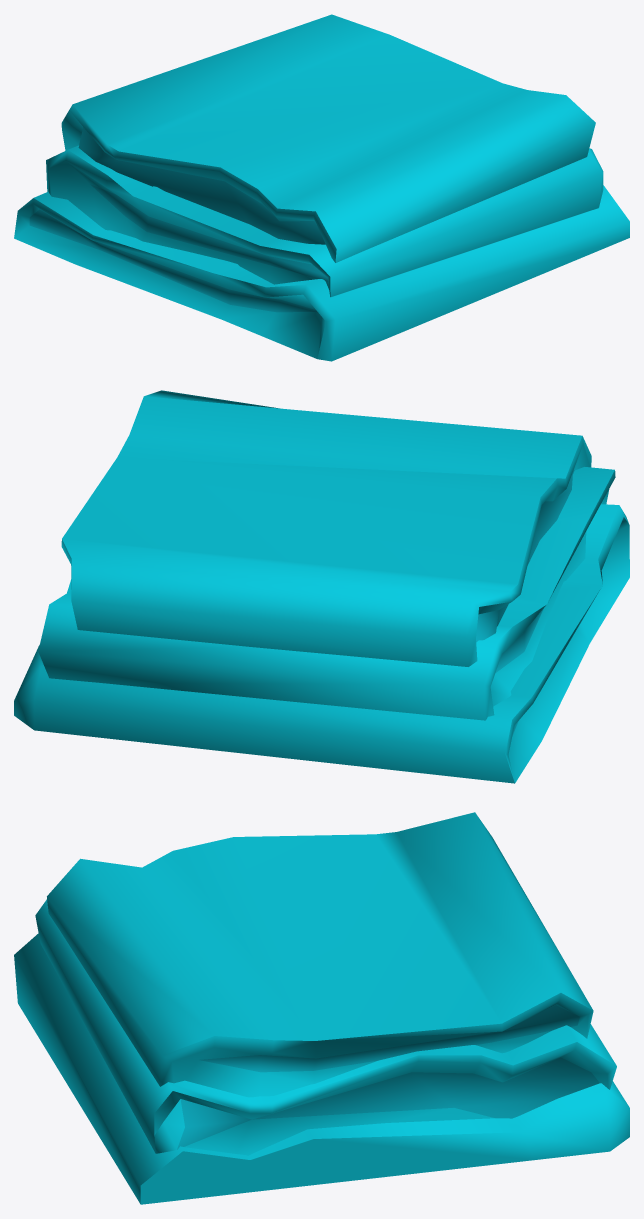
The model's file is clothes_009.glb.
3 views of the same model, one above another, from view 1: azimuth 30°, elevation 25°; view 2: azimuth 150°, elevation 25°; view 3: azimuth 270°, elevation 25° (orthographic). The views are drawn at different scales.
Parts seen in each view (by area): view 1: clothes_009; view 2: clothes_009; view 3: clothes_009.
Boxes of the visible parts, x1,y1,x2,y2 form: clothes_009: (14,14,629,361); clothes_009: (14,390,629,783); clothes_009: (14,812,629,1204).
Size of the model in its own units: 0.4686 by 0.1276 by 0.459.
1 material, 1 textured.
